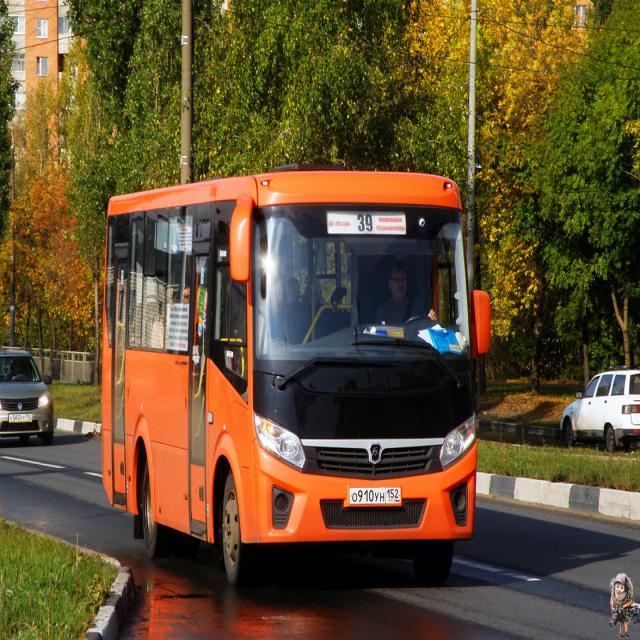number-of-bus: (356, 213, 375, 235)
